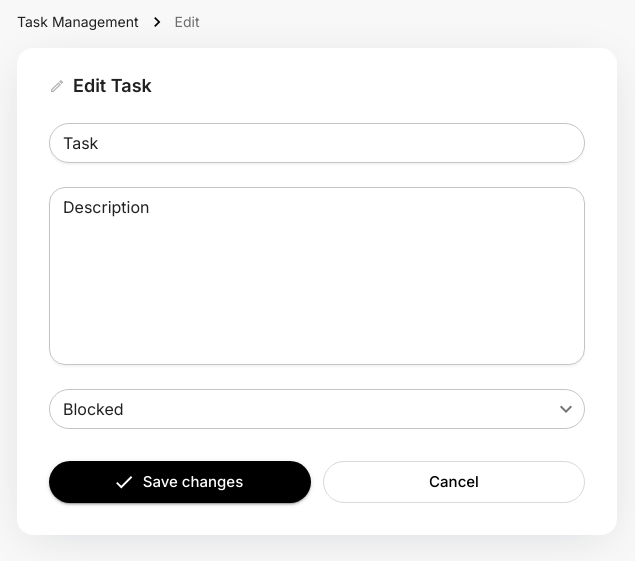
Test case: available status options › for "blocked" status
The width and height of the screenshot is (635, 561).
Click the dropdown.
click(94, 409)  # box [63,399,124,419]
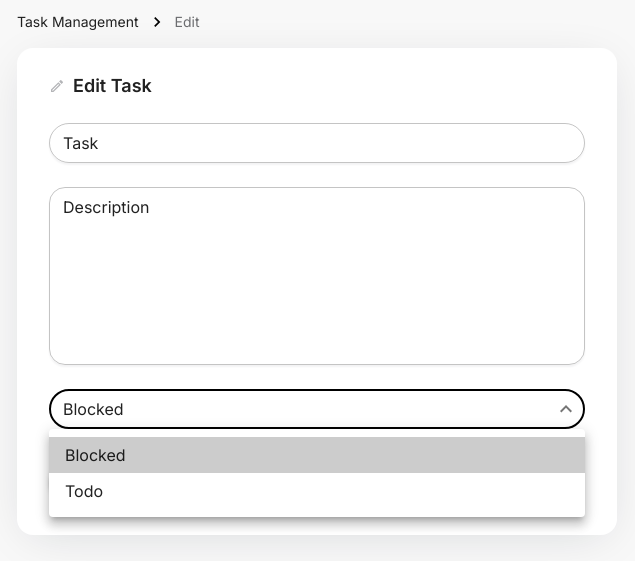
Now the option with test id "option-todo" is shown, box [65,481,103,501]
Now the option with test id "option-blocked" is shown, box [49,437,585,473]
